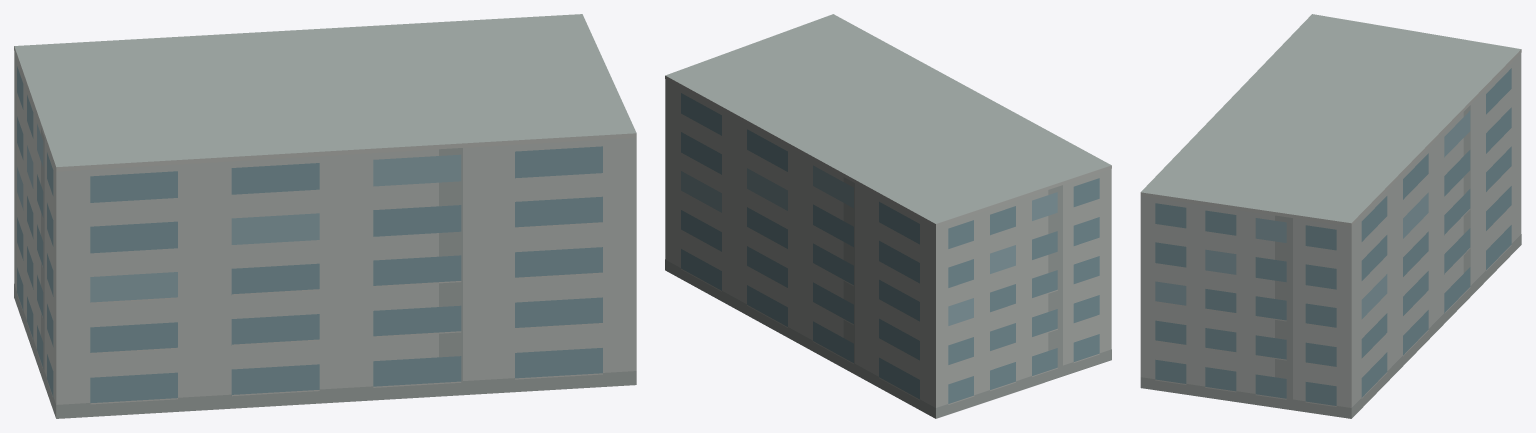
The model's file is survey-upis-32526398.glb.
3 renders of one model, left to right at view 1: azimuth 30°, elevation 25°; view 2: azimuth 150°, elevation 25°; view 3: azimuth 270°, elevation 25°, orthographic. The views are drawn at different scales.
Visible parts, largest first — view 1: survey-upis-32526398.tmp; view 2: survey-upis-32526398.tmp; view 3: survey-upis-32526398.tmp.
Part boxes in pixels (x1=…): survey-upis-32526398.tmp: x1=14, y1=14, x2=636, y2=418; survey-upis-32526398.tmp: x1=665, y1=14, x2=1111, y2=418; survey-upis-32526398.tmp: x1=1140, y1=14, x2=1521, y2=418.
Bounding box in the file's own units: 31.65 × 13.8 × 24.35.
